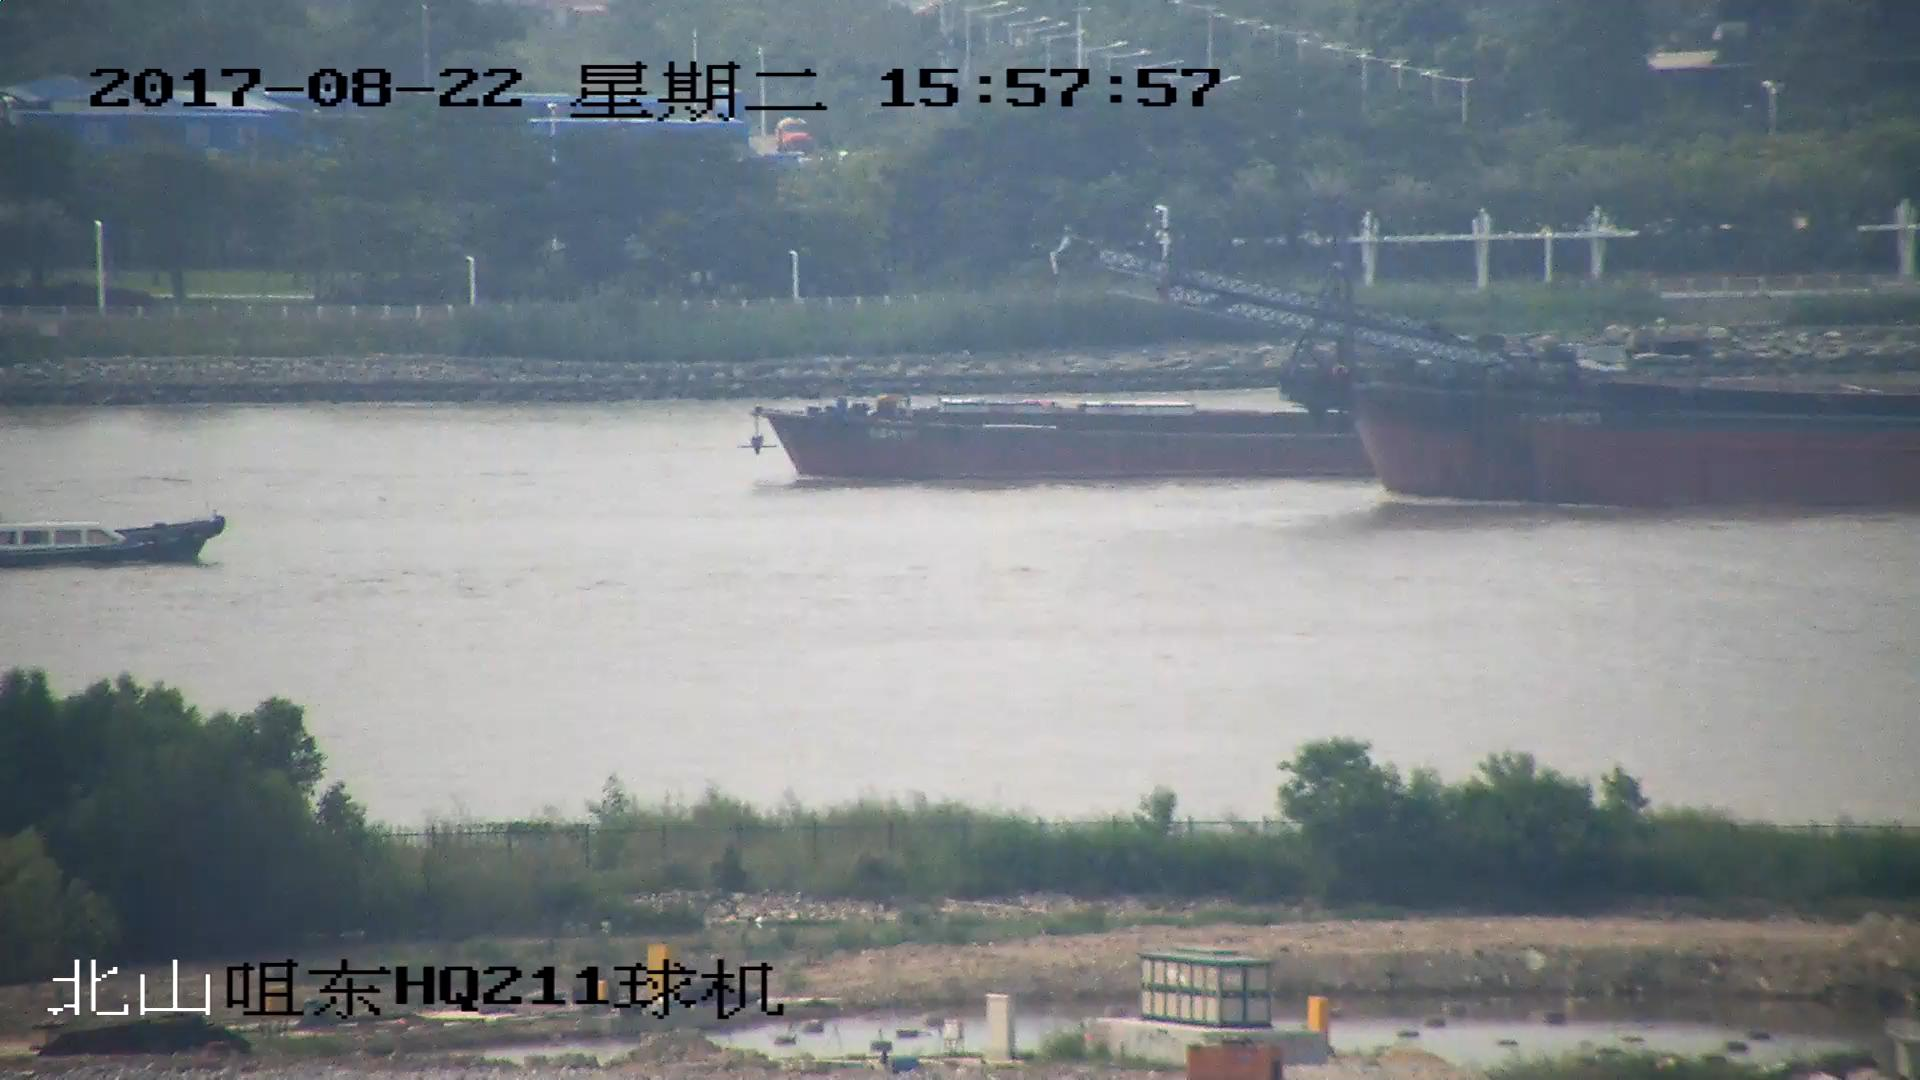bulk cargo carrier: (1057, 231, 1920, 508), (750, 386, 1416, 484)
fishing boat: (1, 510, 225, 571)
